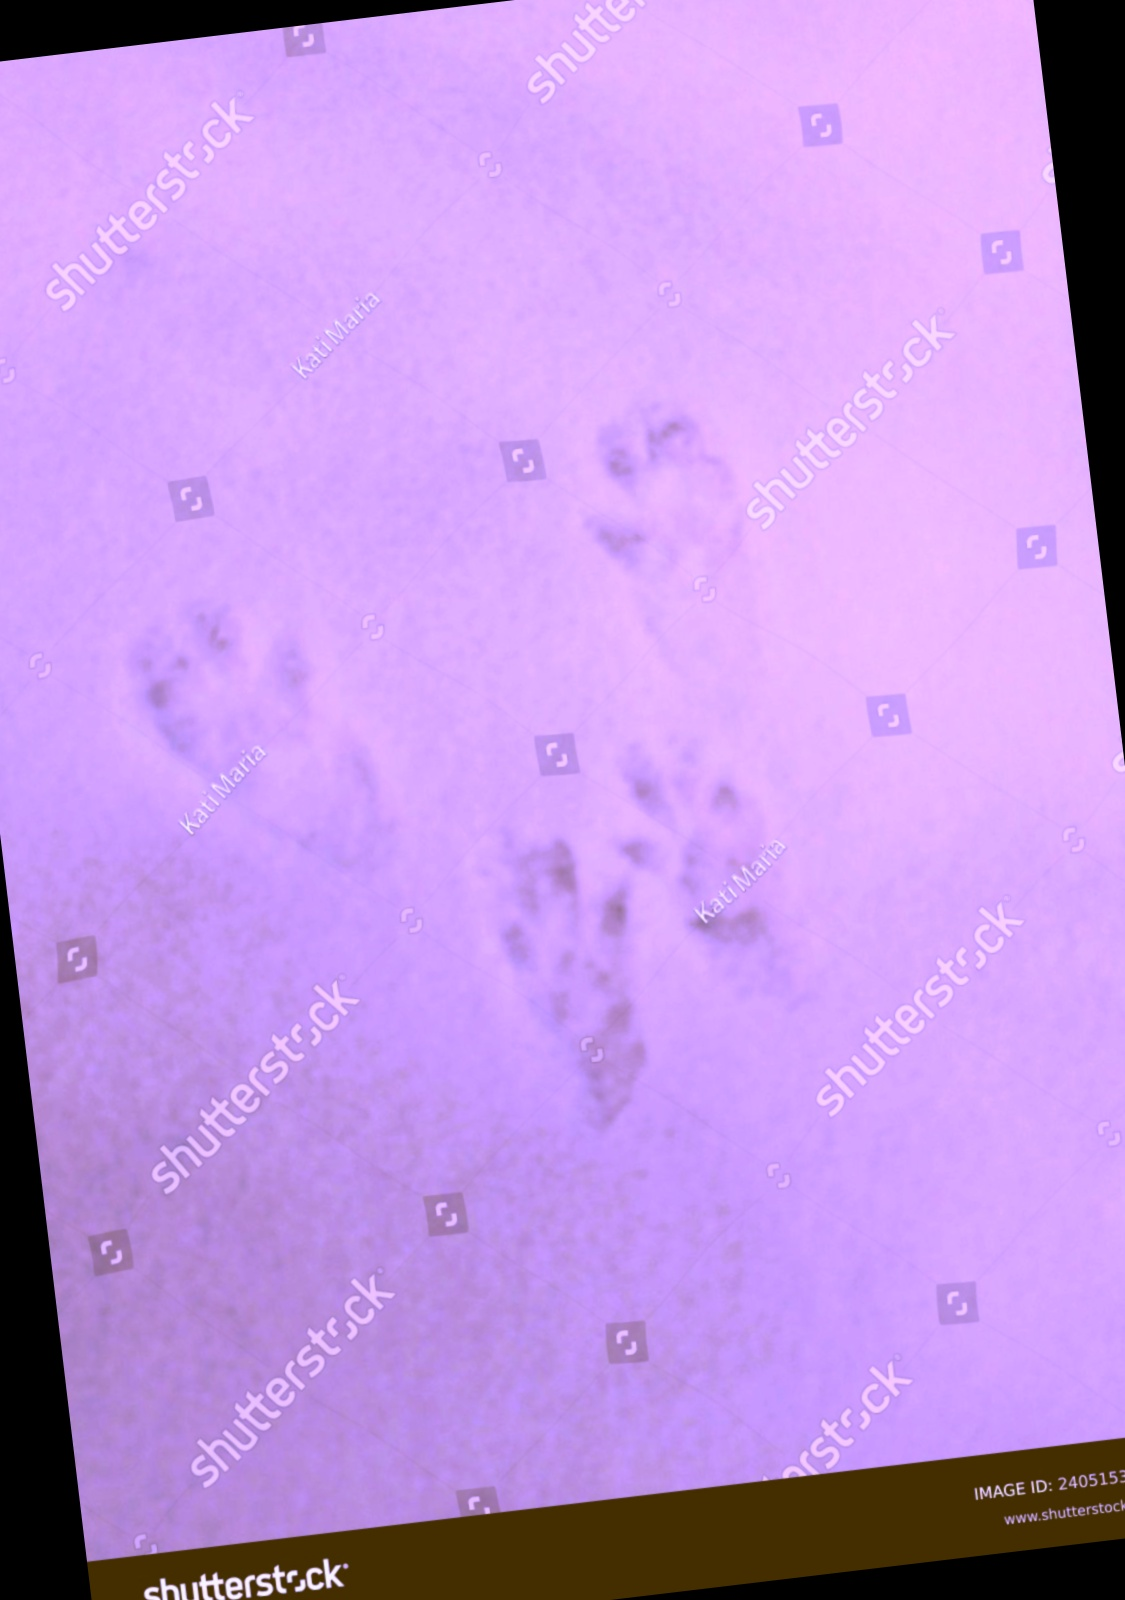ecureuil: (457, 686, 841, 1149), (99, 538, 426, 930), (547, 360, 833, 739)
